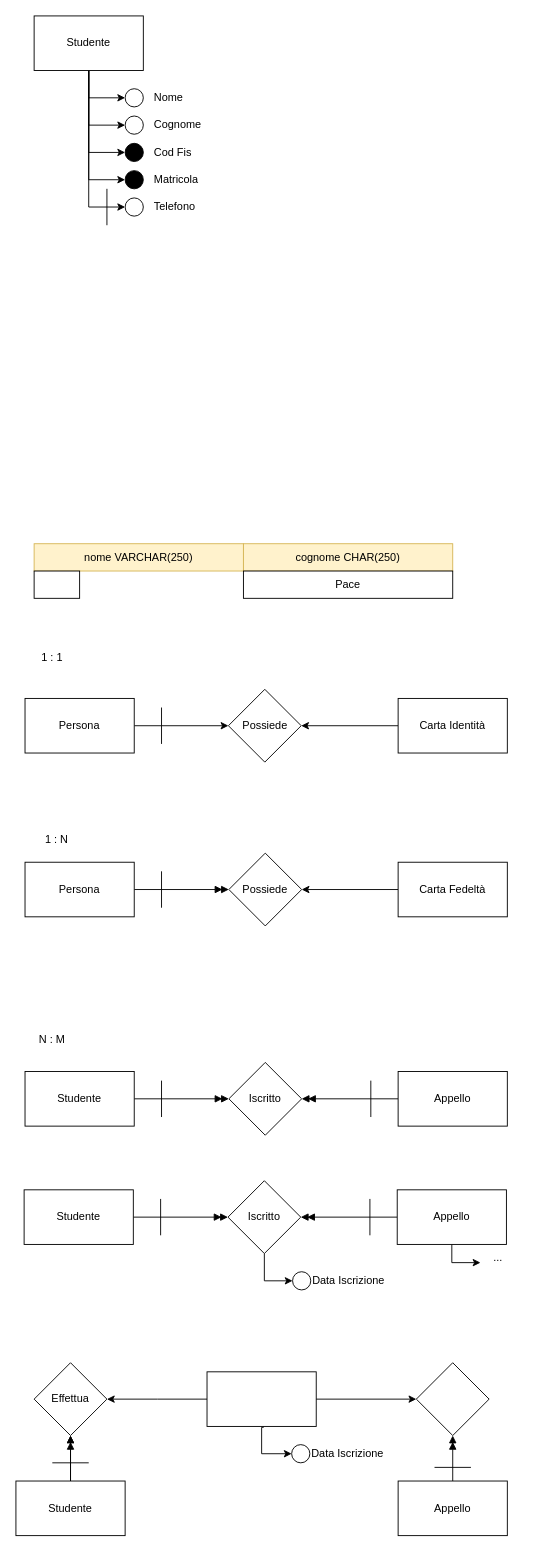
This 541x1552 diagram has some shape labels left out. Each missing label, with the box of its shape:
Coinvolge: (415, 1362, 489, 1436)
Giovanni: (33, 570, 80, 598)
Iscrizione: (206, 1371, 316, 1426)
